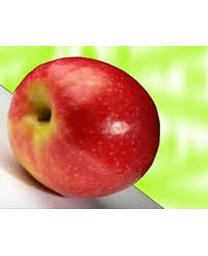apple: (5, 56, 159, 199)
